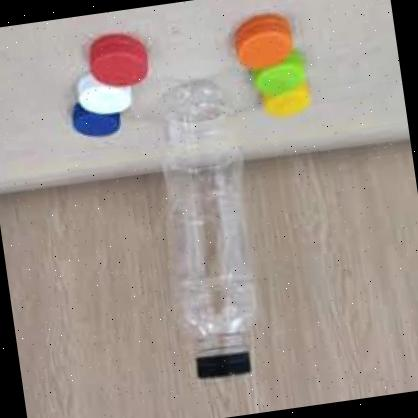bottle: (114, 61, 318, 404)
cap: (186, 346, 258, 386)
